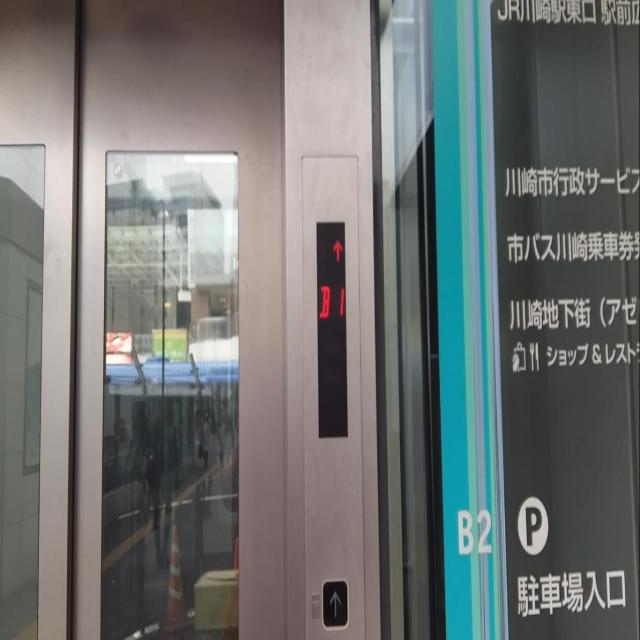led: (316, 221, 347, 437)
up: (322, 578, 348, 630)
